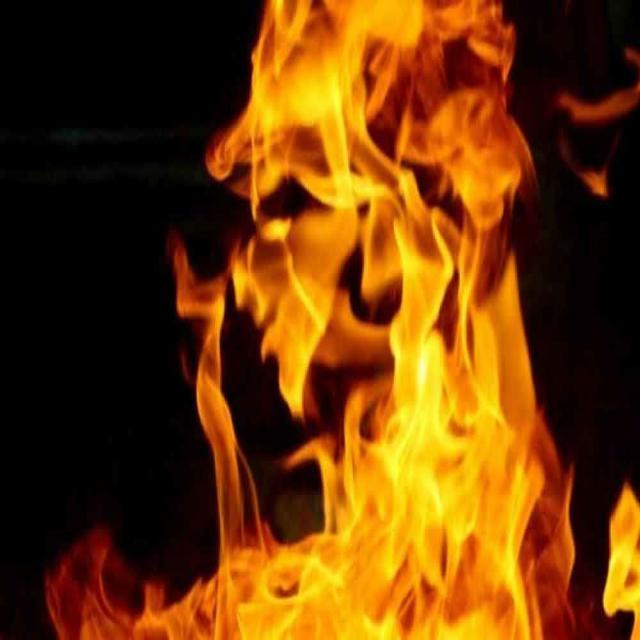fire: (43, 1, 575, 639), (591, 461, 639, 639)
